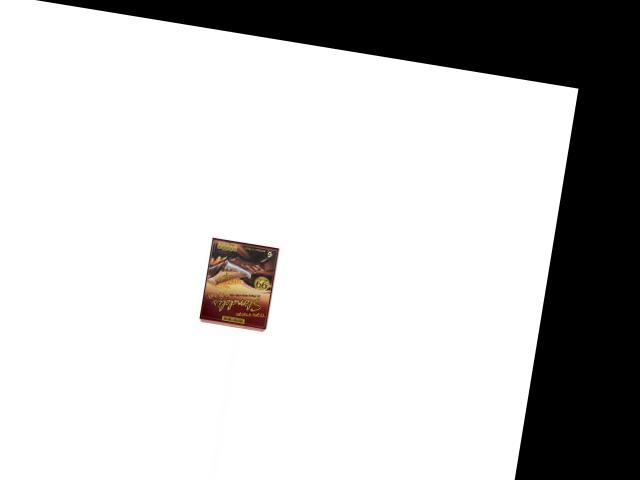chocolate: (199, 237, 279, 332)
